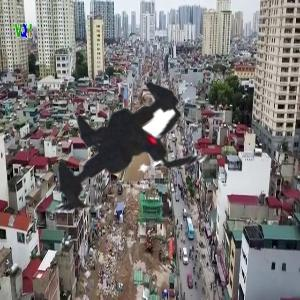drone: (5, 37, 251, 283)
